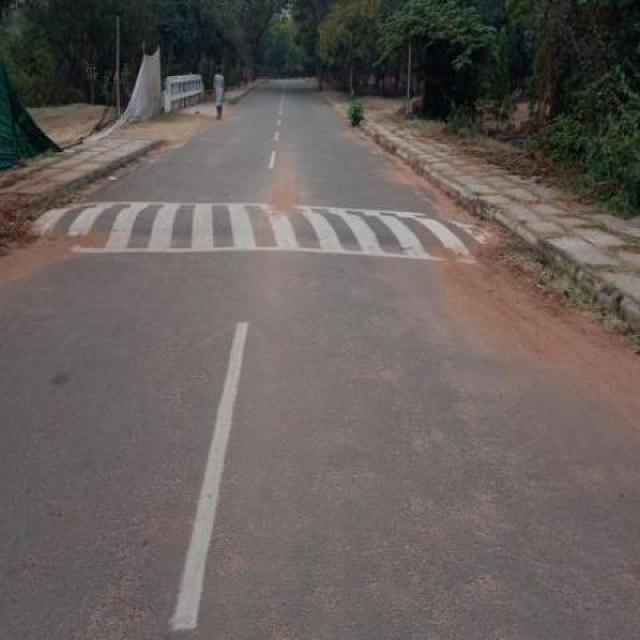Speed Bump: (32, 196, 491, 266)
